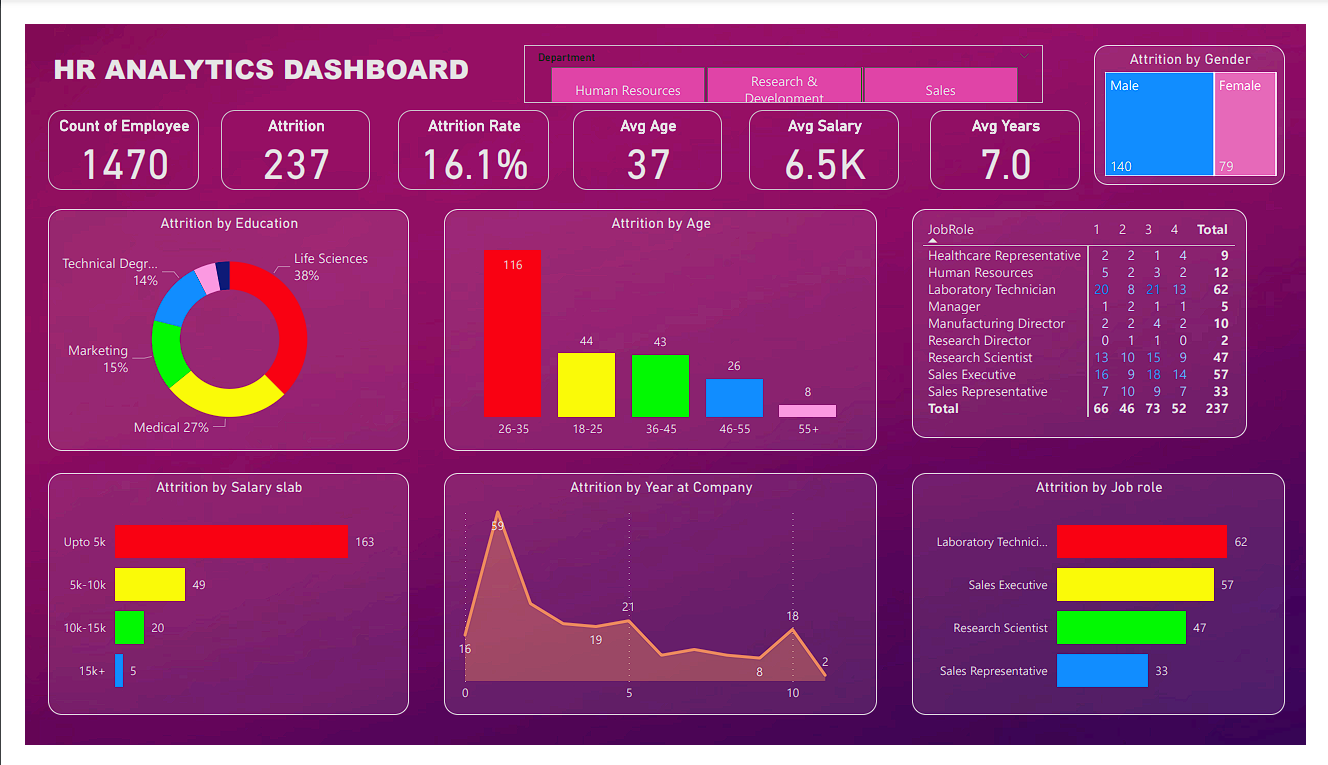

Layout of this report page (visuals, bound fields, positions):
{"tool":"powerbi","page":{"name":"Page 1","canvas":[1280,720],"ordinal":0},"visuals":[{"type":"card","title":"Count of Employee","fields":{"Values":["CountNonNull(HR_Analytics.EmpID)"]},"box":[23.3,97.3,149.8,79.8],"z":0},{"type":"card","title":"Attrition","fields":{"Values":["Sum(HR_Analytics.AttritionCount)"]},"box":[195.5,97.3,149.8,79.8],"z":1000},{"type":"card","title":"Attrition Rate","fields":{"Values":["HR_Analytics.AttritionRate"]},"box":[373.5,97.3,150.8,79.8],"z":2000},{"type":"card","title":"Avg Age","fields":{"Values":["Avg(HR_Analytics.Age)"]},"box":[546.6,97.3,149.8,79.8],"z":3000},{"type":"card","title":"Avg Salary","fields":{"Values":["Avg(HR_Analytics.MonthlyIncome)"]},"box":[727.5,97.3,149.8,79.8],"z":4000},{"type":"card","title":"Avg Years","fields":{"Values":["Avg(HR_Analytics.YearsAtCompany)"]},"box":[904.6,97.3,149.8,79.8],"z":5000},{"type":"donutChart","title":"Attrition by Education","fields":{"Category":["HR_Analytics.EducationField"],"Y":["Sum(HR_Analytics.AttritionCount)"]},"box":[26.3,192.6,360.9,242.2],"z":6000},{"type":"columnChart","title":"Attrition by Age","fields":{"Category":["HR_Analytics.AgeGroup"],"Y":["Sum(HR_Analytics.AttritionCount)"]},"box":[419.2,192.6,432.8,242.2],"z":7000},{"type":"pivotTable","fields":{"Rows":["HR_Analytics.JobRole"],"Columns":["HR_Analytics.JobSatisfaction"],"Values":["Sum(HR_Analytics.AttritionCount)"]},"box":[887.1,201.3,341.4,225.7],"z":8000},{"type":"barChart","title":"Attrition by Salary slab","fields":{"Category":["HR_Analytics.SalarySlab"],"Y":["Sum(HR_Analytics.AttritionCount)"]},"box":[22.9,448.9,361.2,242.4],"z":9000},{"type":"barChart","title":"Attrition by Job role","fields":{"Y":["Sum(HR_Analytics.AttritionCount)"],"Category":["HR_Analytics.JobRole"]},"box":[886.9,448.9,373.1,242.4],"z":10000},{"type":"areaChart","title":"Attrition by Year at Company","fields":{"Category":["HR_Analytics.YearsAtCompany"],"Y":["Sum(HR_Analytics.AttritionCount)"]},"box":[419,448.9,433,242.4],"z":11000},{"type":"treemap","title":"Attrition by Gender","fields":{"Group":["HR_Analytics.Gender"],"Values":["Sum(HR_Analytics.AttritionCount)"]},"box":[1069.9,21.4,189.7,155.6],"z":12000},{"type":"slicer","fields":{"Values":["HR_Analytics.Department"]},"box":[524.3,13.6,522.3,72.9],"z":13000},{"type":"textbox","box":[26.3,21.4,464.9,57.4],"z":14000}]}

Visuals, with their boxes in screenshot pixels (x1, y1, x2, y2), scaled from the page's 1280x720 canvas onto the 1328x765 screenshot:
"Count of Employee" card: box(24, 103, 180, 188)
"Attrition" card: box(203, 103, 358, 188)
"Attrition Rate" card: box(388, 103, 544, 188)
"Avg Age" card: box(567, 103, 723, 188)
"Avg Salary" card: box(755, 103, 910, 188)
"Avg Years" card: box(939, 103, 1094, 188)
"Attrition by Education" donutChart: box(27, 205, 402, 462)
"Attrition by Age" columnChart: box(435, 205, 884, 462)
pivotTable - HR_Analytics.JobRole x HR_Analytics.JobSatisfaction: box(920, 214, 1275, 454)
"Attrition by Salary slab" barChart: box(24, 477, 399, 735)
"Attrition by Job role" barChart: box(920, 477, 1307, 735)
"Attrition by Year at Company" areaChart: box(435, 477, 884, 735)
"Attrition by Gender" treemap: box(1110, 23, 1307, 188)
slicer - HR_Analytics.Department: box(544, 14, 1086, 92)
textbox: box(27, 23, 510, 84)
